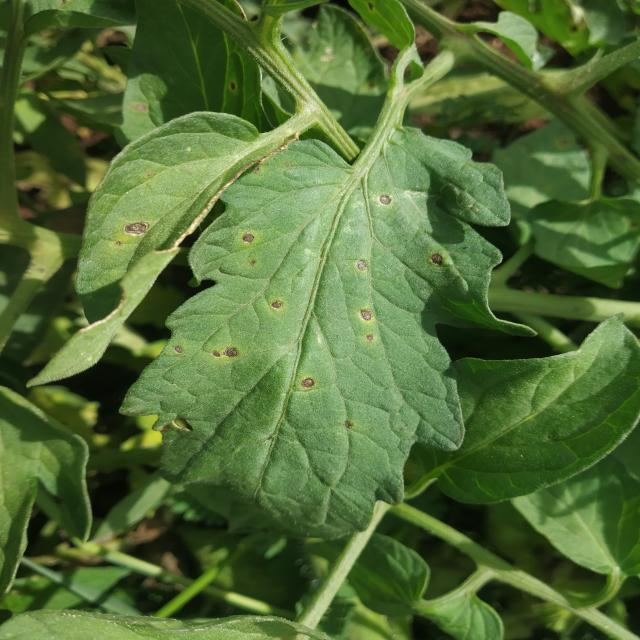Tomato mosaic virus leaf: (165, 135, 472, 498), (82, 191, 192, 269)
